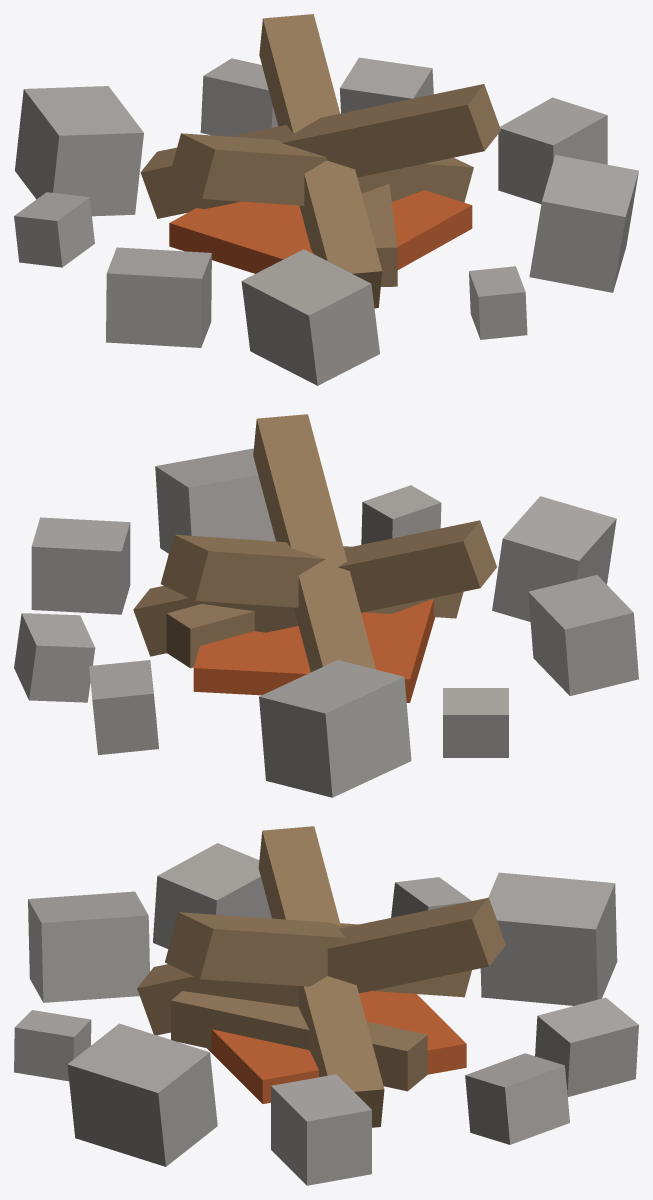
Rendered from campfire.gltf.
3 renders of one model, top to bottom at view 1: azimuth 30°, elevation 25°; view 2: azimuth 150°, elevation 25°; view 3: azimuth 270°, elevation 25°, orthographic. The views are drawn at different scales.
Parts seen in each view (by area): view 1: Campfire; view 2: Campfire; view 3: Campfire.
Boxes of the visible parts, box(x1,y1,x2,y2) form: Campfire: box(14, 14, 638, 385); Campfire: box(14, 414, 638, 797); Campfire: box(14, 826, 638, 1185).
Size of the model in its own units: 1.46 by 0.4642 by 1.41.
